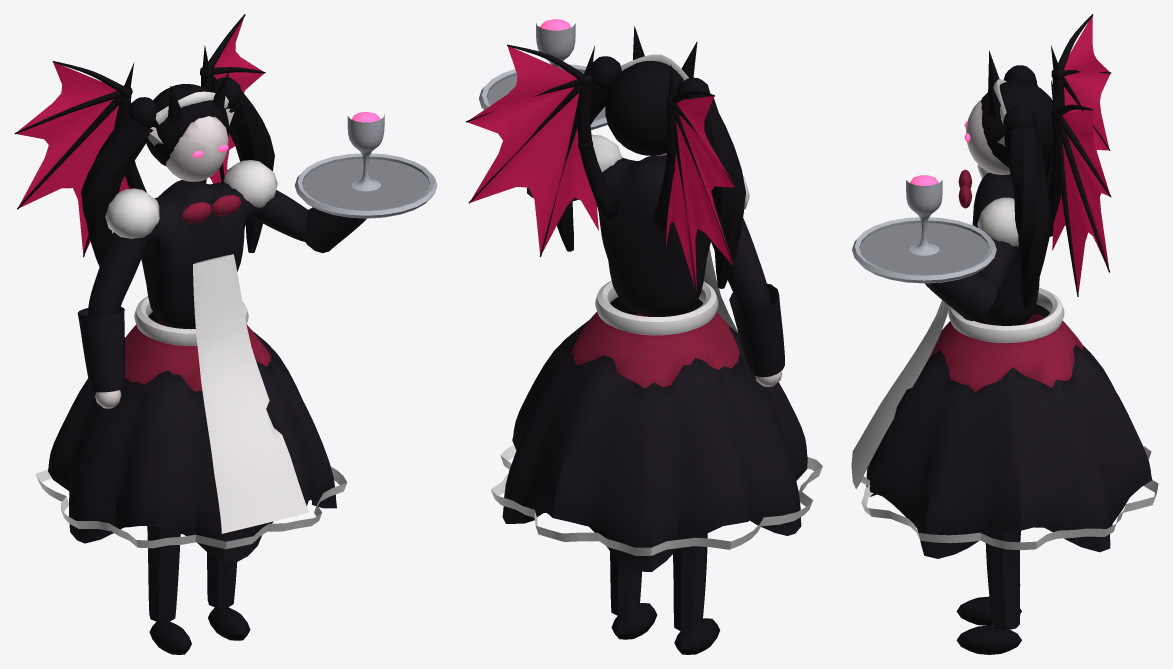
File: goth_bat.glb
The picture shows the model from 3 angles, left to right: view 1: azimuth 30°, elevation 25°; view 2: azimuth 150°, elevation 25°; view 3: azimuth 270°, elevation 25°; orthographic projection. The views are drawn at different scales.
Visible parts, largest first — view 1: body, wing_L_a, wing_R_a; view 2: body, wing_R_a, wing_L_a; view 3: body, wing_R_a, wing_L_a.
Boxes of the visible parts, x1,y1,x2,y2 form: body: [36, 71, 437, 654]; wing_L_a: [14, 61, 146, 257]; wing_R_a: [200, 14, 265, 183]; body: [479, 19, 822, 654]; wing_R_a: [466, 44, 618, 256]; wing_L_a: [651, 64, 736, 295]; body: [851, 51, 1158, 654]; wing_R_a: [1048, 80, 1111, 296]; wing_L_a: [1045, 14, 1111, 190].
Size of the model in its own units: 1.12 by 1.86 by 0.8986.
